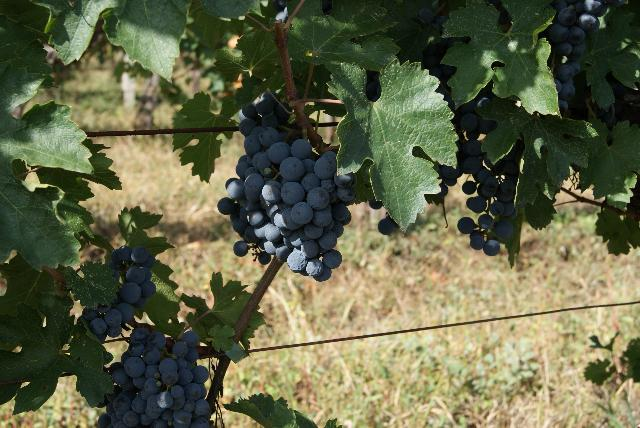grapes: (219, 91, 356, 281), (99, 329, 210, 428), (82, 245, 156, 342)
